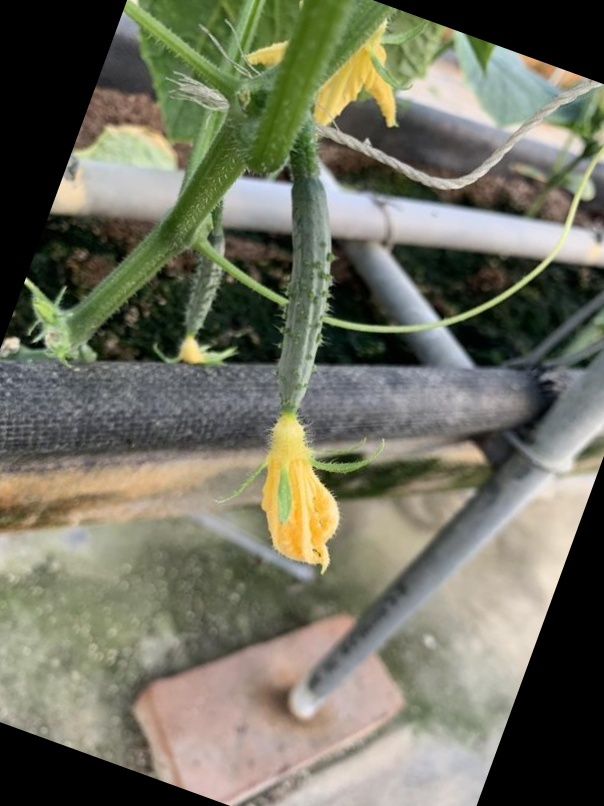bear: (214, 161, 381, 577)
